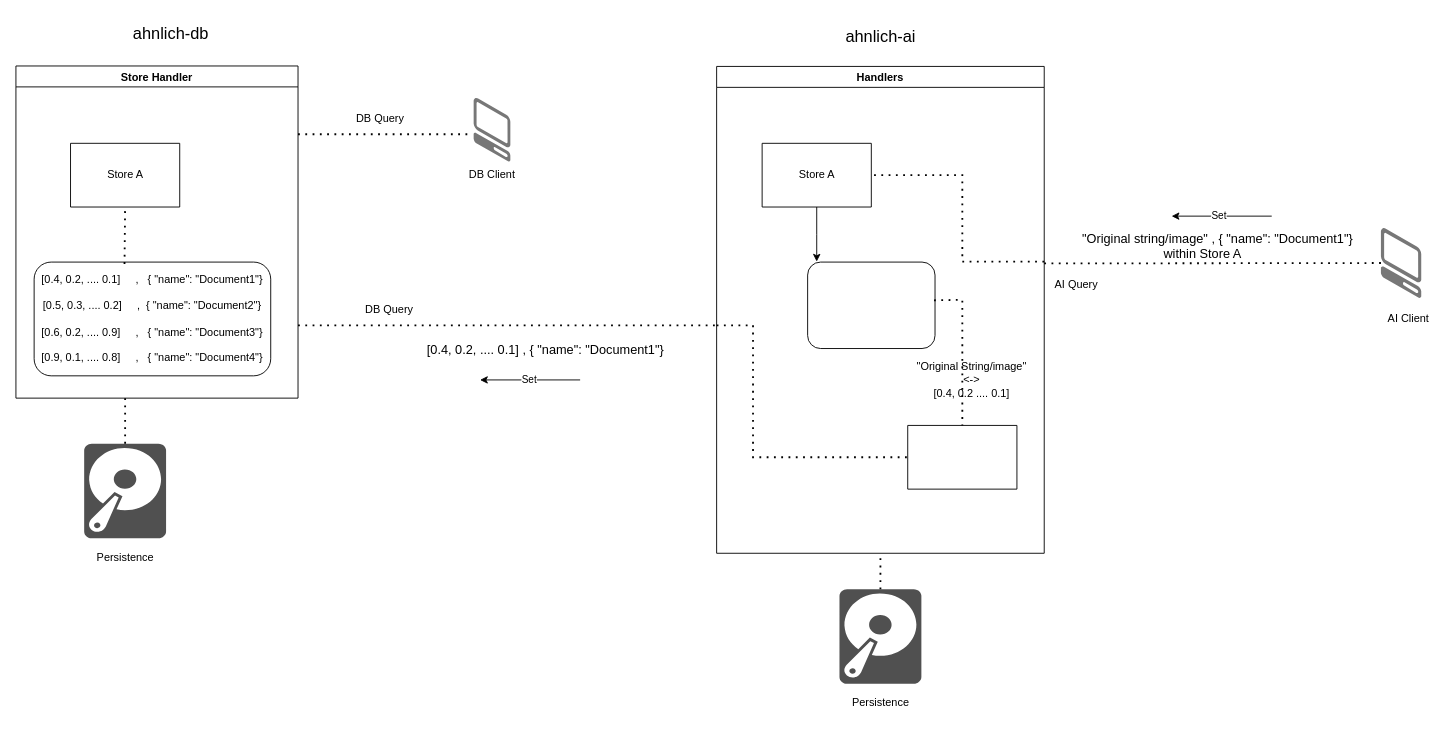
This 1456x732 diagram has some shape labels left out. The centre of each missing label's shape, as x and y in pixels:
Index Model -> Model B Query Model -> Model A Preprocess method: (x=871, y=305)
Model B: (x=962, y=457)
